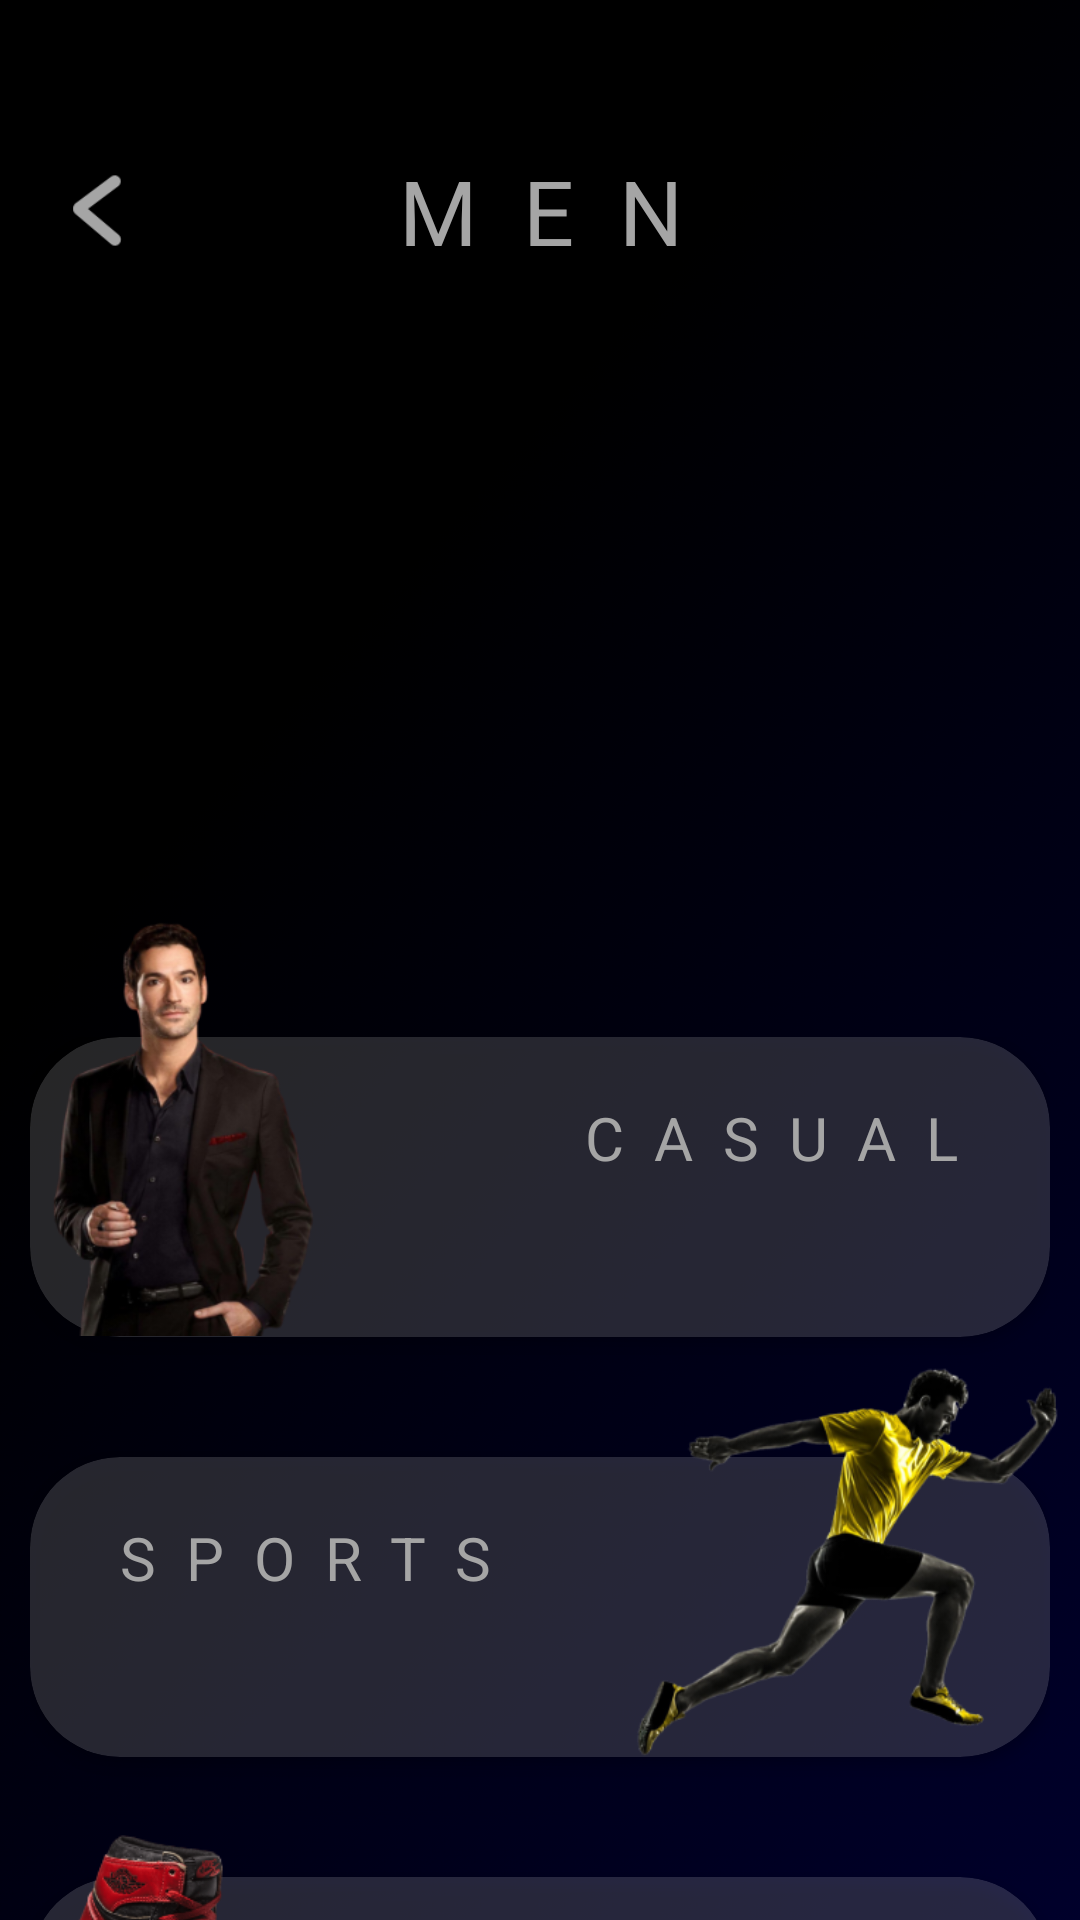

Icon bounding boxes for this 1080*1920 phone screenshot, format (x1, y1, x2, y2):
back: (73, 175, 121, 246)
